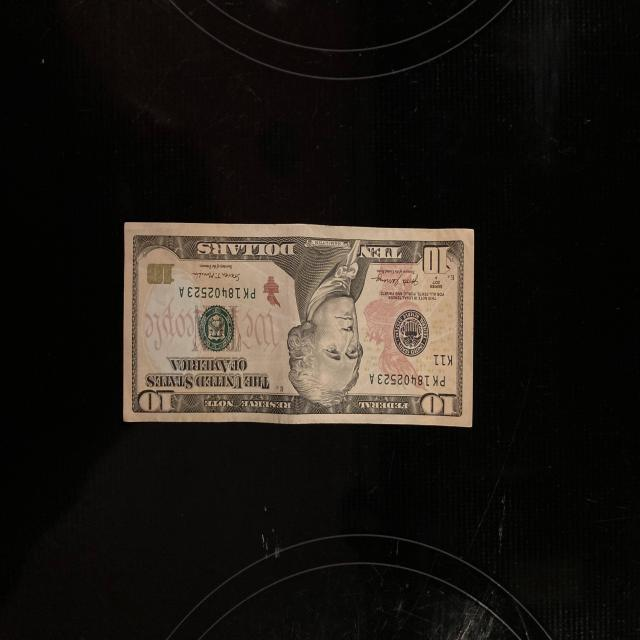ten: (123, 221, 475, 429)
